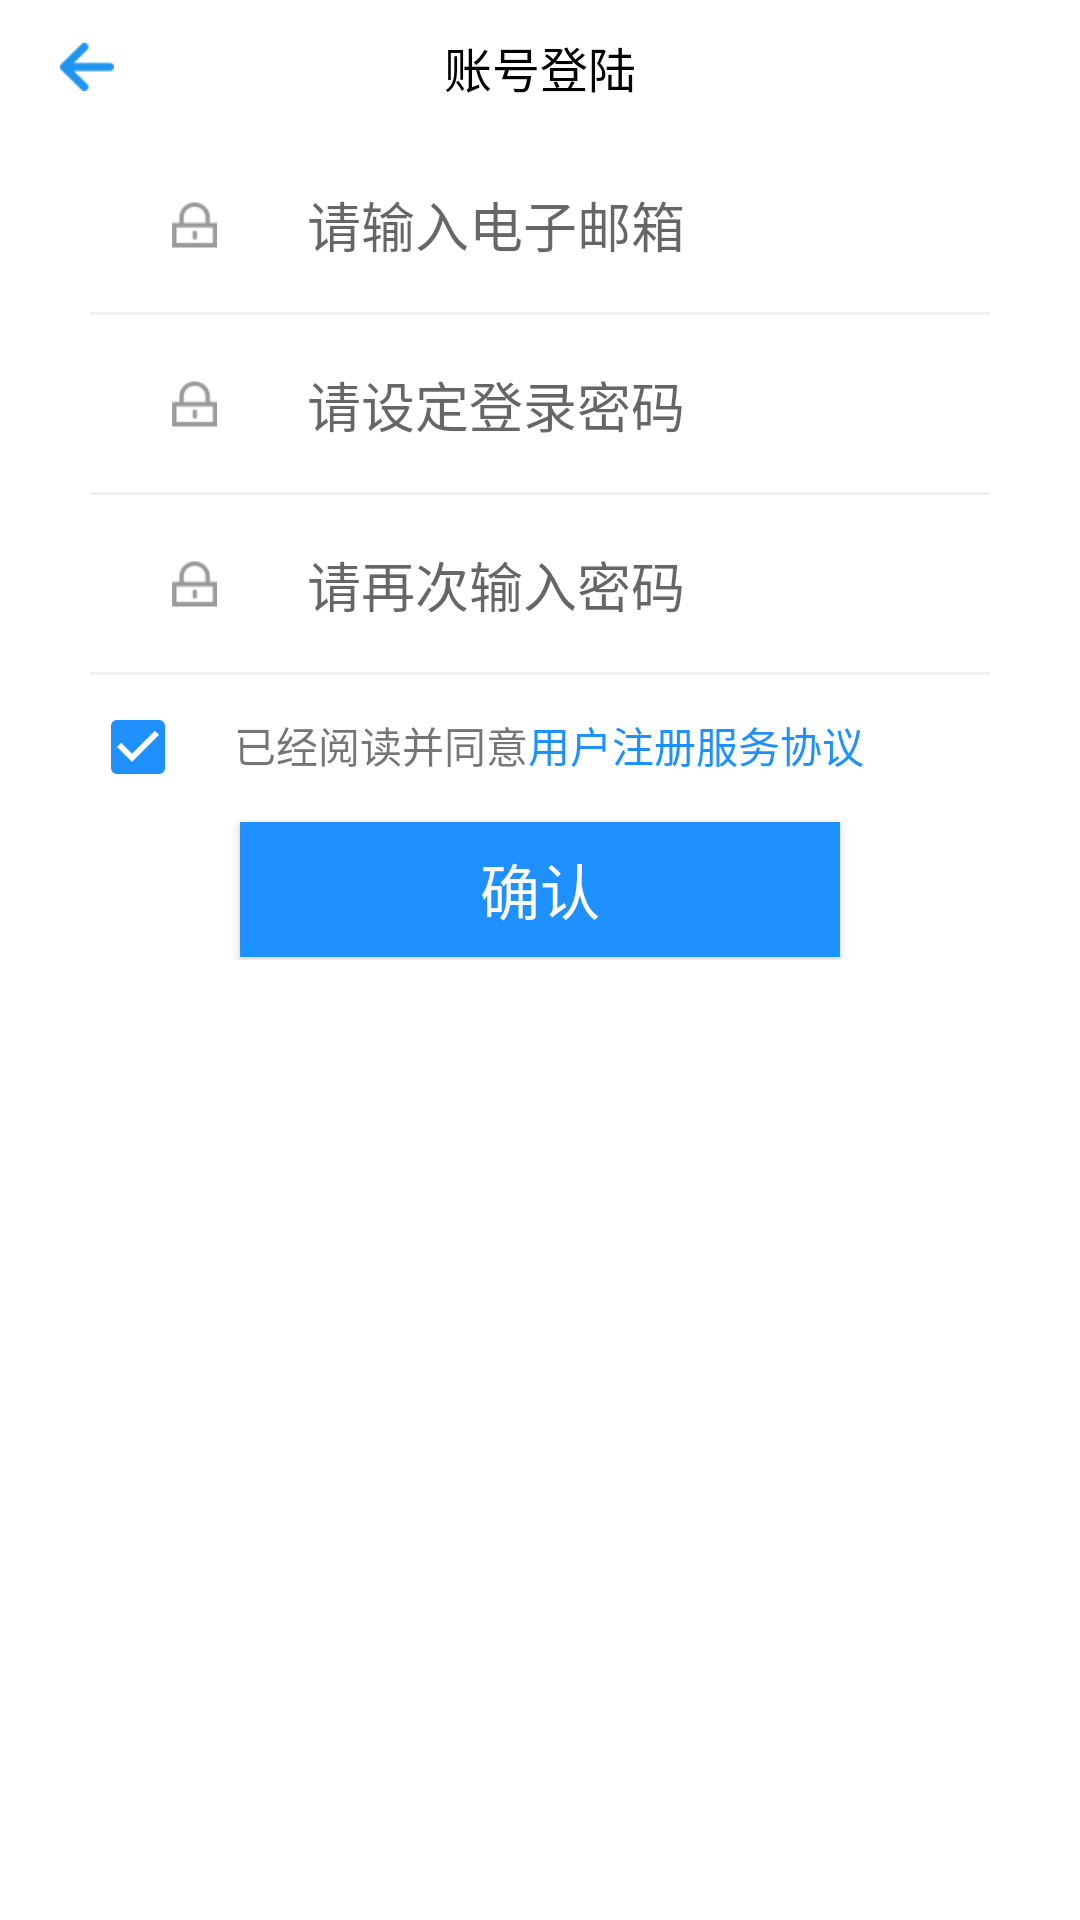

Where to tap for icons on this 1080x1920 app screen, as (x,y):
back: (87,67)
